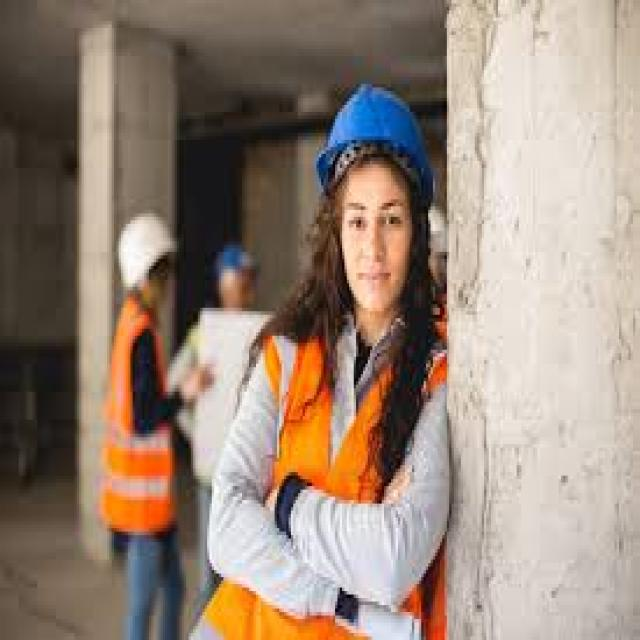Reflective-Jacket: (226, 304, 456, 636), (96, 308, 180, 546)
Safety-Helmet: (305, 74, 449, 214), (112, 203, 182, 297)
